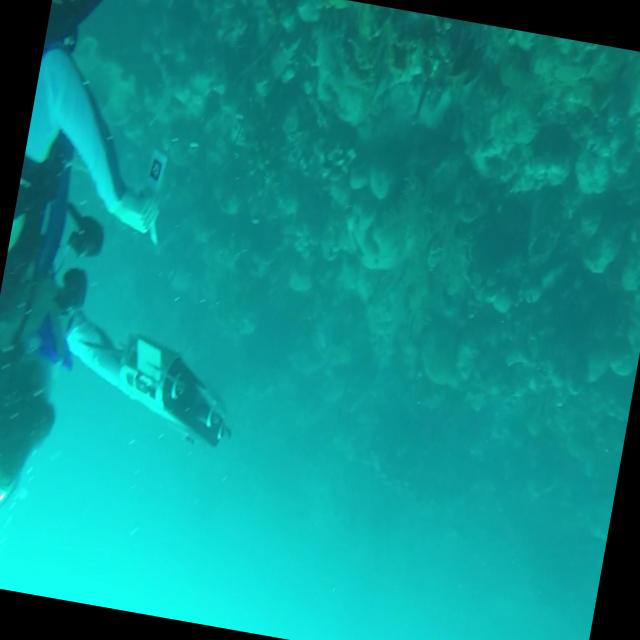human: (0, 0, 211, 537)
